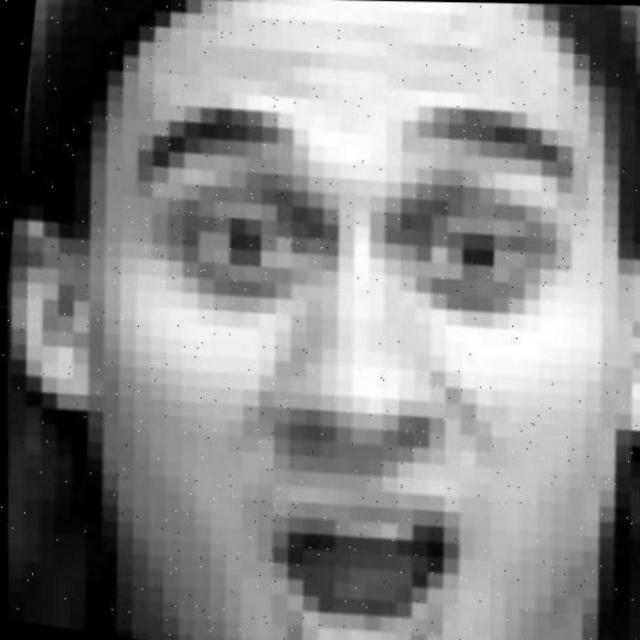Surprised: (43, 64, 612, 640)
